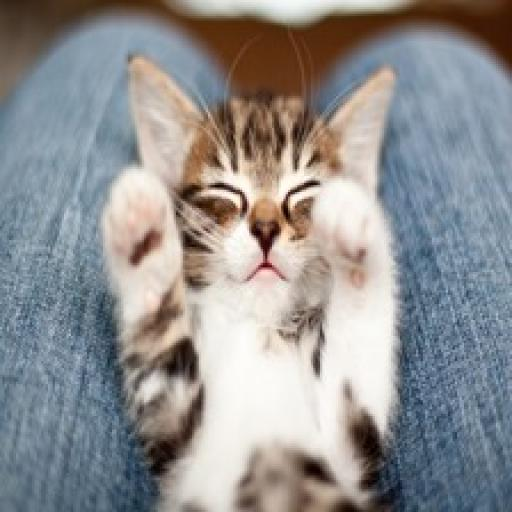cat: (86, 54, 435, 512)
